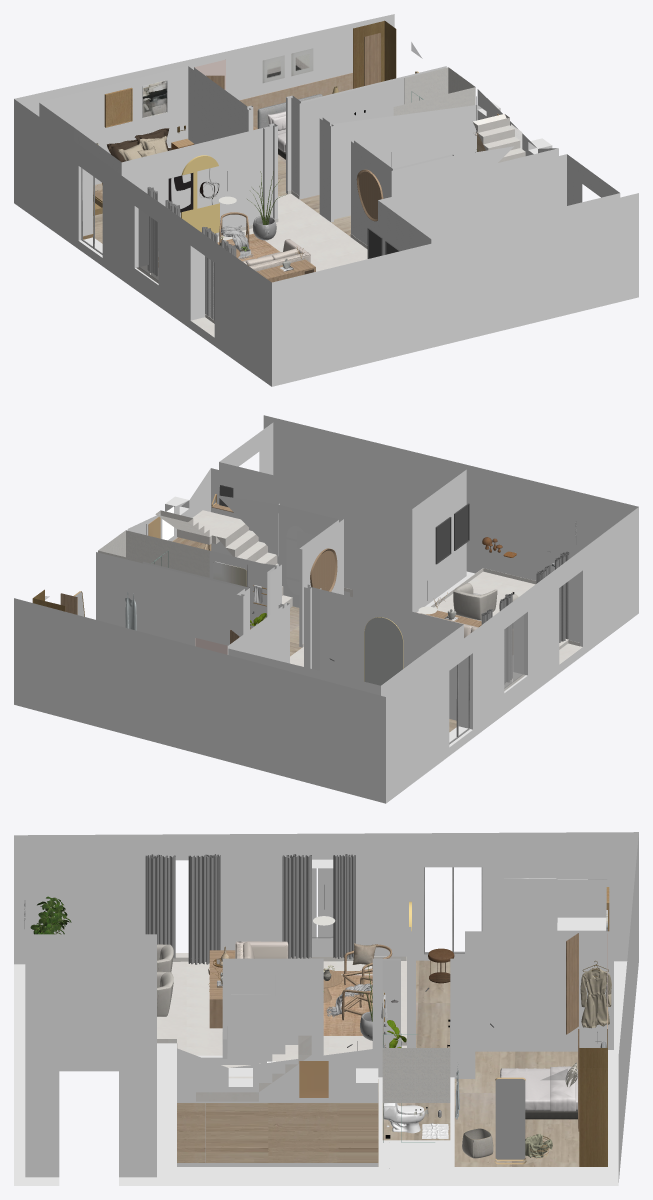
The model's file is burgos-floor-0-hd-1.glb.
The picture shows the model from 3 angles, top to bottom: view 1: azimuth 30°, elevation 25°; view 2: azimuth 150°, elevation 25°; view 3: azimuth 270°, elevation 25°; orthographic projection. The views are drawn at different scales.
Visible parts, largest first — view 1: structure, piece_103, piece_6, piece_115, piece_57, piece_106, piece_185, piece_37, piece_38, piece_123, piece_154, piece_47 (+8 smaller); view 2: structure, piece_103, piece_185, piece_57, piece_43, piece_38, piece_133, piece_61, piece_119, piece_60, piece_5, piece_120 (+1 smaller); view 3: structure, piece_103, piece_58, piece_7, piece_37, piece_60, piece_61, piece_62, piece_39, piece_6, piece_277, piece_1 (+9 smaller).
Boxes of the visible parts, box(x1,y1,x2,y2) form: structure: box(14, 14, 638, 386); piece_103: box(393, 67, 475, 115); piece_6: box(242, 239, 315, 282); piece_115: box(107, 128, 172, 162); piece_57: box(138, 209, 158, 280); piece_106: box(104, 87, 132, 127); piece_185: box(454, 146, 513, 181); piece_37: box(257, 94, 322, 159); piece_38: box(356, 169, 383, 221); piece_123: box(197, 165, 221, 208); piece_154: box(142, 80, 167, 118); piece_47: box(364, 33, 380, 85); structure: box(14, 415, 638, 803); piece_103: box(98, 530, 209, 577); piece_185: box(217, 495, 278, 555); piece_57: box(504, 615, 523, 688); piece_43: box(453, 583, 497, 620); piece_38: box(310, 548, 337, 591); piece_133: box(286, 525, 304, 595); piece_61: box(555, 551, 569, 642); piece_119: box(435, 517, 451, 564); piece_60: box(500, 593, 512, 683); piece_5: box(213, 561, 250, 629); piece_120: box(454, 503, 469, 550); structure: box(14, 832, 638, 1185); piece_103: box(382, 999, 450, 1102); piece_58: box(188, 854, 220, 964); piece_7: box(494, 1077, 552, 1164); piece_37: box(500, 1041, 606, 1119); piece_60: box(282, 854, 311, 958); piece_61: box(145, 854, 175, 958); piece_62: box(333, 854, 355, 959); piece_39: box(323, 943, 392, 1020); piece_6: box(208, 941, 288, 1028); piece_277: box(323, 971, 372, 1035); piece_1: box(580, 960, 611, 1028).
Bounding box in the file's own units: 9.29 × 2.51 × 10.92.
177 materials, 128 textured.
